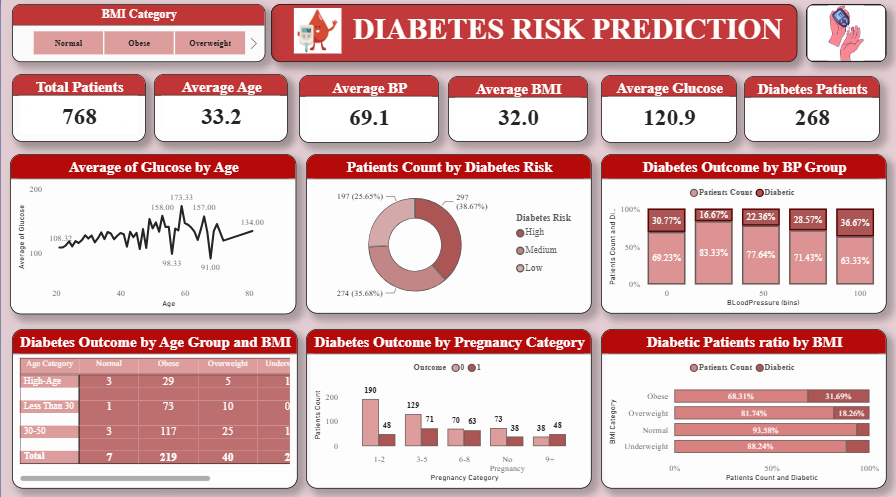

Layout of this report page (visuals, bound fields, positions):
{"tool":"powerbi","page":{"name":"Page 1","canvas":[1280,720],"ordinal":0},"visuals":[{"type":"textbox","box":[385,5,751.7,83.3],"z":0},{"type":"image","box":[391.7,11.7,121.7,65],"z":1000},{"type":"image","box":[1150,5,115,83.3],"z":2000},{"type":"cardVisual","title":"Total Patients","fields":{"Data":["diabetes.Patients Count"]},"box":[15.7,105.7,191.4,97.1],"z":3000},{"type":"cardVisual","title":"Average Age","fields":{"Data":["Avg(diabetes.Age)"]},"box":[218.6,105.7,191.4,97.1],"z":4000},{"type":"cardVisual","title":"Average BP","fields":{"Data":["Avg(diabetes.BLoodPressure)"]},"box":[425,106.7,200,96.7],"z":5000},{"type":"cardVisual","title":"Average BMI","fields":{"Data":["Avg(diabetes.BMI)"]},"box":[638.6,108.6,200,94.3],"z":6000},{"type":"cardVisual","title":"Average Glucose","fields":{"Data":["Avg(diabetes.Glucose)"]},"box":[857.1,107.1,194.3,97.1],"z":7000},{"type":"lineChart","fields":{"Category":["diabetes.Age"],"Y":["Avg(diabetes.Glucose)"]},"box":[12.9,220,408.6,228.6],"z":8000},{"type":"donutChart","fields":{"Y":["diabetes.Patients Count"],"Category":["diabetes.Diabetes Risk"]},"box":[435,220,408.3,228.3],"z":9000},{"type":"hundredPercentStackedColumnChart","title":" Diabetes Outcome by BP Group","fields":{"Category":["diabetes.BLoodPressure (bins)"],"Y":["diabetes.Patients Count","Sum(diabetes.Outcome)"]},"box":[856.7,220,408.3,228.3],"z":10000},{"type":"hundredPercentStackedBarChart","title":" Diabetic Patients ratio by BMI ","fields":{"Category":["diabetes.BMI Category"],"Y":["diabetes.Patients Count","Sum(diabetes.Outcome)"]},"box":[856.7,470,408.3,228.3],"z":11000},{"type":"clusteredColumnChart","title":"Diabetes Outcome by Pregnancy Category","fields":{"Category":["diabetes.Pregnancy Category"],"Y":["diabetes.Patients Count"],"Series":["diabetes.Outcome"]},"box":[435,470,408.3,228.3],"z":12000},{"type":"pivotTable","title":"Diabetes Outcome by Age Group and BMI","fields":{"Rows":["diabetes.Age Category"],"Columns":["diabetes.BMI Category"],"Values":["Sum(diabetes.Outcome)"]},"box":[15,470,408.3,228.3],"z":13000},{"type":"slicer","title":"BMI Category","fields":{"Values":["diabetes.BMI Category"]},"box":[15,5,361.7,83.3],"z":14000},{"type":"cardVisual","title":"Diabetes Patients","fields":{"Data":["diabetes.Diabetic Patients"]},"box":[1061.4,108.6,194.3,94.3],"z":15000}]}

Visuals, with their boxes in screenshot pixels (x1, y1, x2, y2), scaled from the page's 1280x720 canvas onto the 896x497 screenshot:
textbox: bbox=[270, 3, 796, 61]
image: bbox=[274, 8, 359, 53]
image: bbox=[805, 3, 886, 61]
"Total Patients" cardVisual: bbox=[11, 73, 145, 140]
"Average Age" cardVisual: bbox=[153, 73, 287, 140]
"Average BP" cardVisual: bbox=[298, 74, 438, 140]
"Average BMI" cardVisual: bbox=[447, 75, 587, 140]
"Average Glucose" cardVisual: bbox=[600, 74, 736, 141]
lineChart - diabetes.Age x Avg(diabetes.Glucose): bbox=[9, 152, 295, 310]
donutChart - diabetes.Patients Count x diabetes.Diabetes Risk: bbox=[304, 152, 590, 309]
" Diabetes Outcome by BP Group" hundredPercentStackedColumnChart: bbox=[600, 152, 886, 309]
" Diabetic Patients ratio by BMI " hundredPercentStackedBarChart: bbox=[600, 324, 886, 482]
"Diabetes Outcome by Pregnancy Category" clusteredColumnChart: bbox=[304, 324, 590, 482]
"Diabetes Outcome by Age Group and BMI" pivotTable: bbox=[10, 324, 296, 482]
"BMI Category" slicer: bbox=[10, 3, 264, 61]
"Diabetes Patients" cardVisual: bbox=[743, 75, 879, 140]
